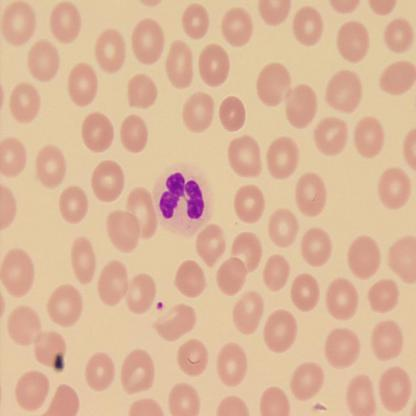Segmented neutrophil: (153, 162, 212, 237)
